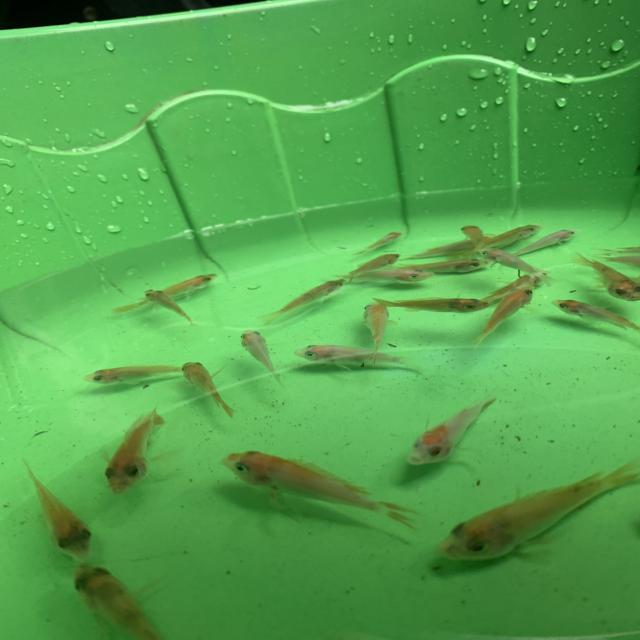nila: (429, 459, 640, 558), (199, 444, 419, 534), (18, 460, 102, 560), (402, 387, 506, 466), (68, 563, 166, 640), (468, 276, 542, 350), (108, 406, 168, 497), (547, 296, 640, 352), (288, 340, 420, 378), (254, 273, 352, 324), (116, 270, 224, 313), (232, 323, 298, 392), (176, 354, 241, 420), (571, 251, 640, 304), (70, 360, 196, 389), (480, 244, 561, 286), (358, 292, 403, 367), (452, 218, 543, 255), (473, 263, 548, 306), (142, 285, 205, 332), (374, 292, 493, 316), (412, 231, 500, 260), (344, 224, 408, 260), (514, 225, 581, 258), (339, 248, 399, 283), (328, 268, 443, 286), (383, 256, 493, 273), (461, 221, 490, 255)
